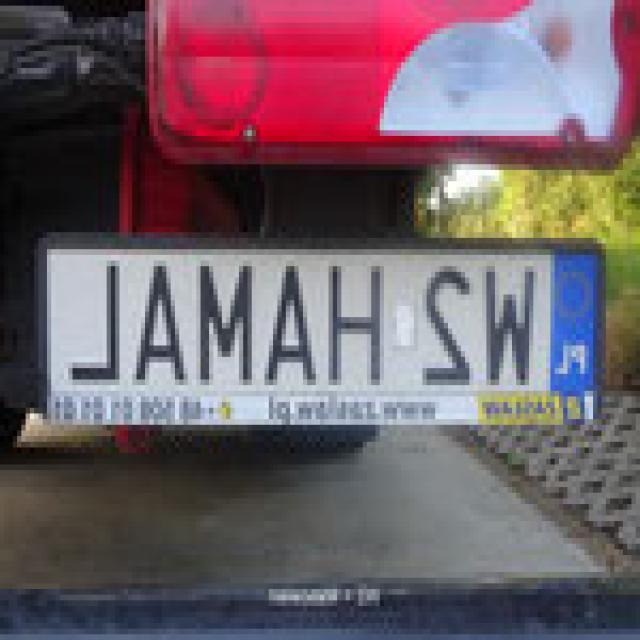pl_license_plate: (56, 244, 602, 385)
